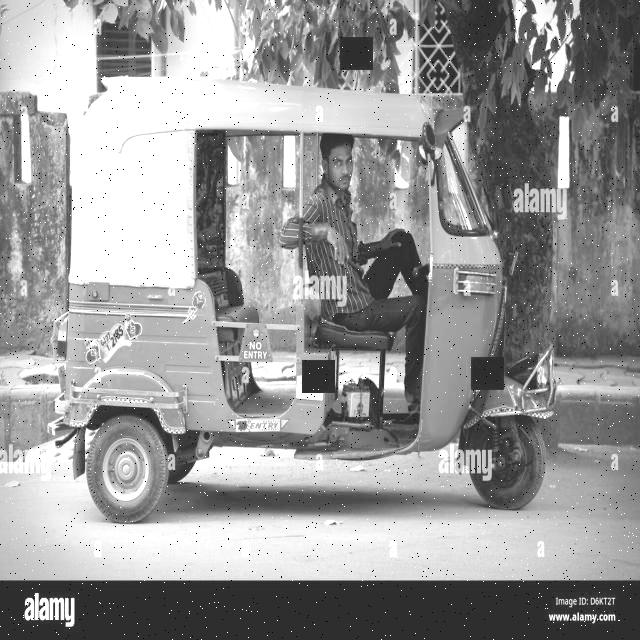Auto-Rickshaw: (59, 67, 561, 531)
